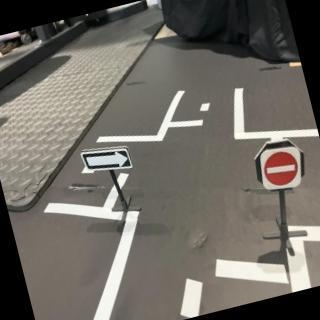sign_noentry: (254, 141, 313, 197)
sign_oneway_right: (80, 138, 137, 180)
